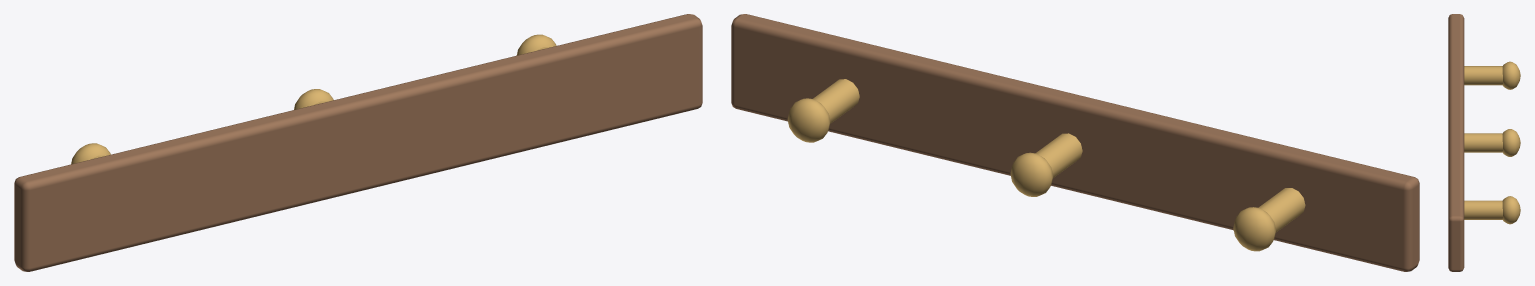
The model's file is wall_hooks.fbx.
The picture shows the model from 3 angles, left to right: view 1: azimuth 30°, elevation 25°; view 2: azimuth 150°, elevation 25°; view 3: azimuth 270°, elevation 25°; orthographic projection. The views are drawn at different scales.
Visible parts, largest first — view 1: wall_hooks; view 2: wall_hooks; view 3: wall_hooks.
Part boxes in pixels (bbox=[...]): wall_hooks: bbox=[14, 14, 702, 271]; wall_hooks: bbox=[731, 14, 1419, 271]; wall_hooks: bbox=[1448, 14, 1520, 271].
Bounding box in the file's own units: 0.55 × 0.07 × 0.082.
